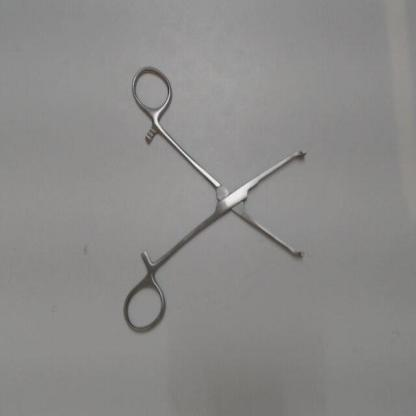Allis Tissue Forceps: (117, 58, 316, 342)
